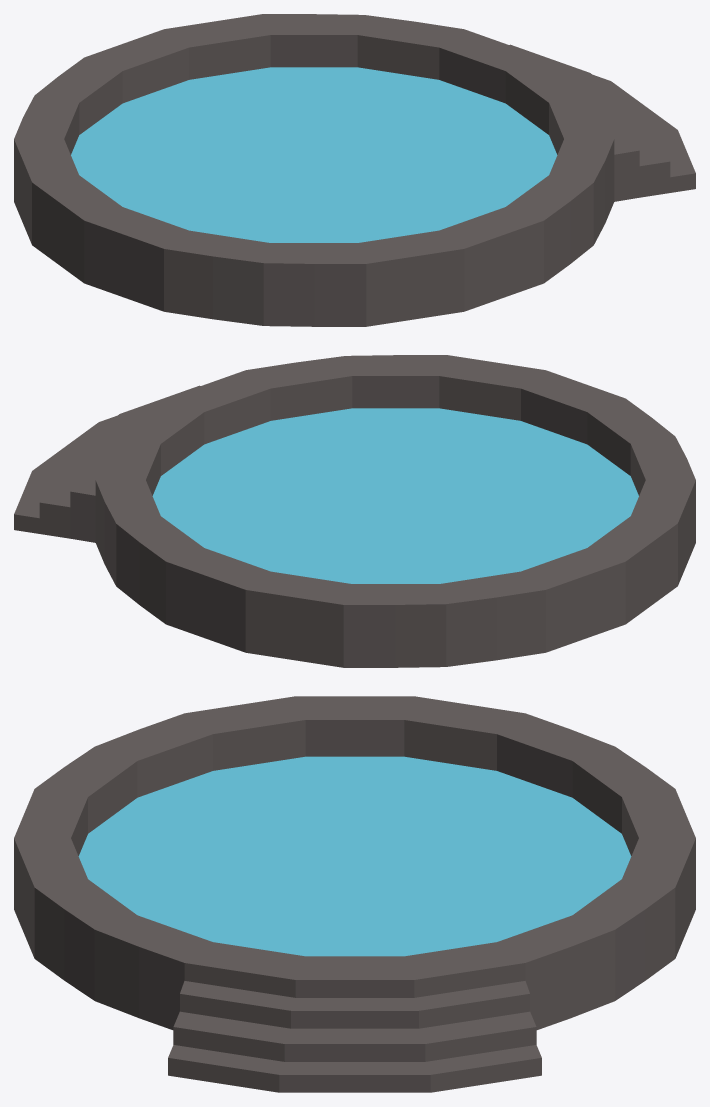
File: BossPortal.fbx
3 views of the same model, one above another, from view 1: azimuth 30°, elevation 25°; view 2: azimuth 150°, elevation 25°; view 3: azimuth 270°, elevation 25° (orthographic). The views are drawn at different scales.
Parts seen in each view (by area): view 1: BP; view 2: BP; view 3: BP.
Part boxes in pixels (<box>): BP: <box>14,14,695,326</box>; BP: <box>14,355,695,667</box>; BP: <box>14,696,695,1092</box>.
Bounding box in the file's own units: 690 × 70.68 × 612.
